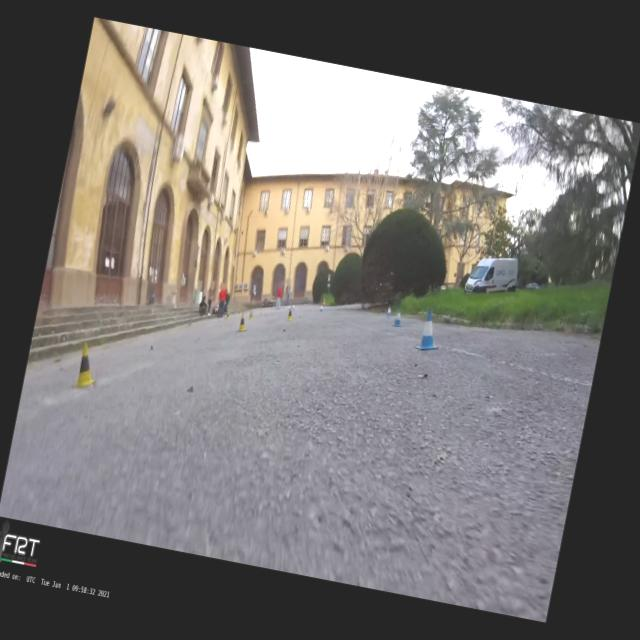blue_cone: (415, 307, 445, 353), (392, 308, 406, 328), (386, 304, 394, 318), (319, 304, 325, 312)
large_orange_cone: (322, 298, 327, 308)
yellow_cone: (73, 341, 104, 392), (237, 312, 250, 333), (286, 308, 295, 322), (249, 312, 254, 321), (226, 312, 230, 320)
